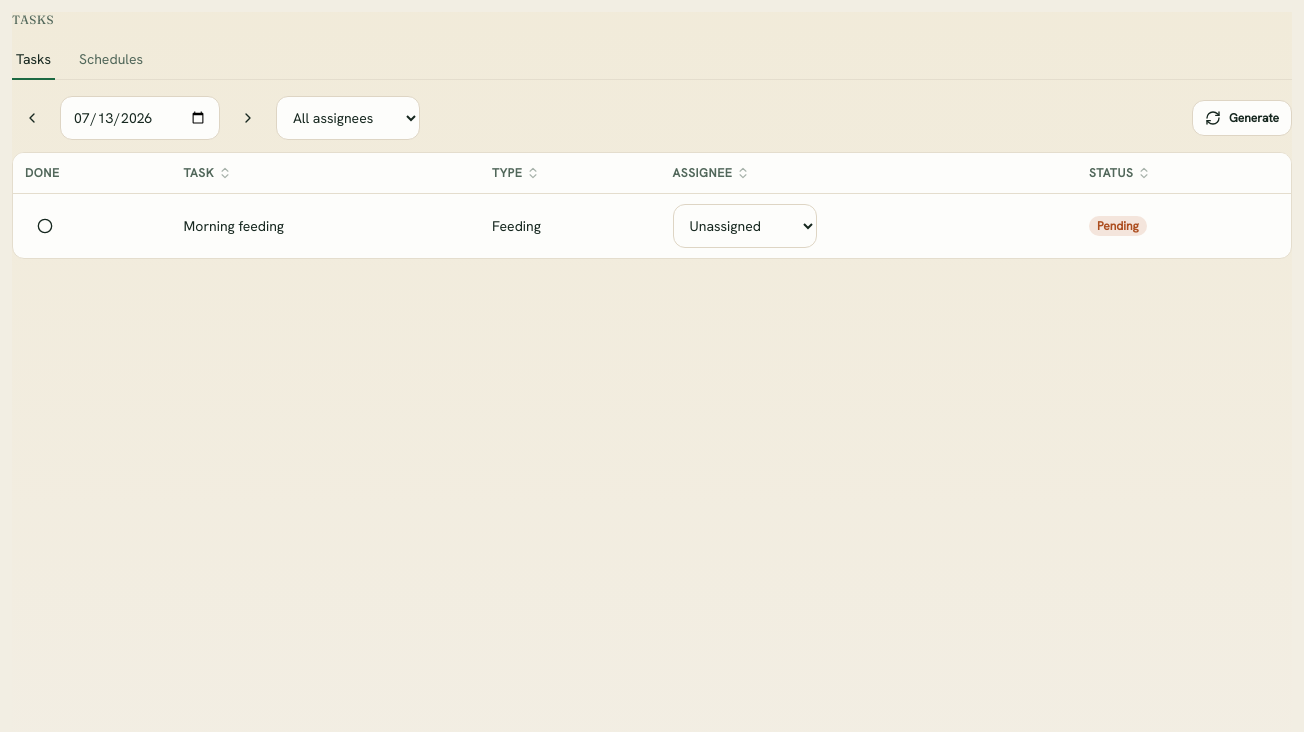
TasksPanel (11.6a rewrite) › renders tasks and completes one optimistically
This screenshot has width=1304, height=732.
Expected: the text "Morning feeding" is shown, [184, 216, 284, 234]
Click the button named "Mark \"Morning feeding\" as done".
click(45, 226)  # box [25, 208, 65, 244]
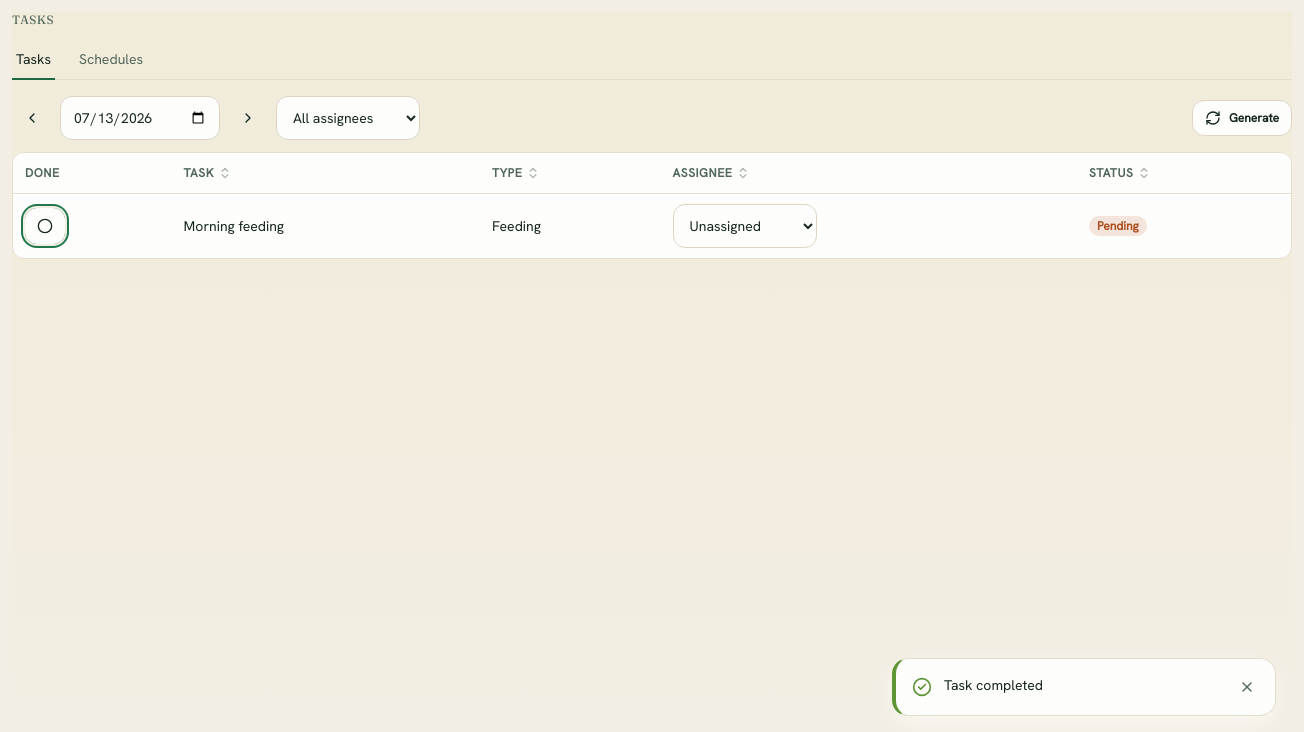
Expected: the column heading "Done" is shown, [13, 153, 172, 193]
Expected: the text "Task completed" is shown, [944, 676, 1043, 694]
